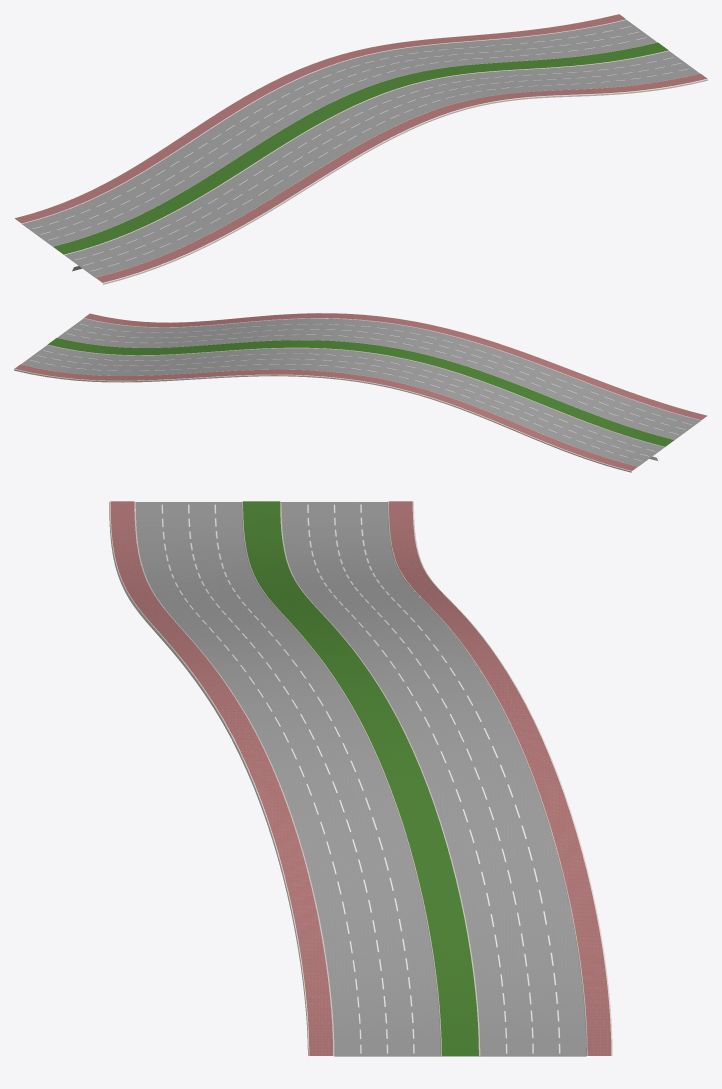
Rendered from pierbridge.glb.
3 views of the same model, one above another, from view 1: azimuth 30°, elevation 25°; view 2: azimuth 150°, elevation 25°; view 3: azimuth 270°, elevation 25° (orthographic). The views are drawn at different scales.
Visible parts, largest first — view 1: cityblockassetkit; view 2: cityblockassetkit; view 3: cityblockassetkit.
Part boxes in pixels (box(x1,y1,x2,y2)): cityblockassetkit: box(14, 14, 707, 284); cityblockassetkit: box(14, 313, 707, 472); cityblockassetkit: box(109, 501, 612, 1056).
Size of the model in its own units: 198 by 18.08 by 75.99.
6 materials, 5 textured.
